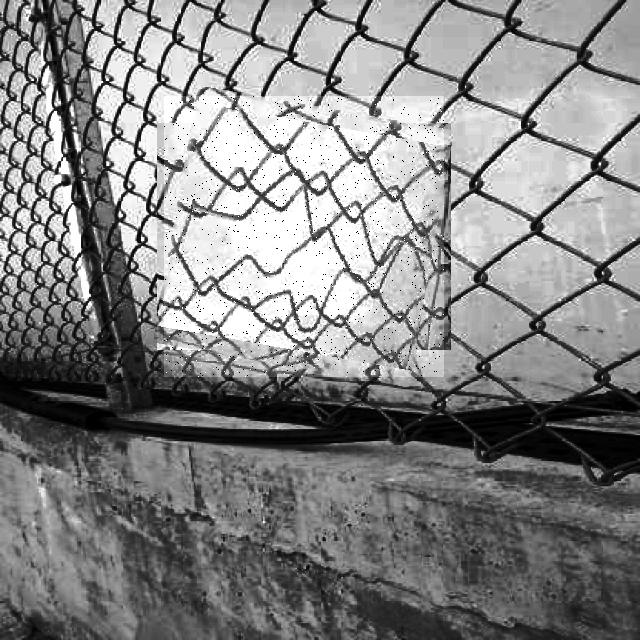anomaly-fence: (164, 96, 444, 377)
